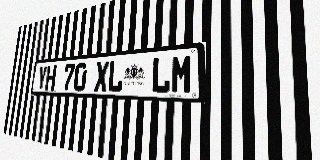0: (73, 62, 87, 91)
7: (62, 63, 75, 91)
H: (45, 65, 57, 91)
L: (150, 56, 171, 93), (107, 59, 124, 92)
M: (171, 54, 193, 94)
X: (93, 61, 109, 92)
Y: (36, 66, 48, 90)
